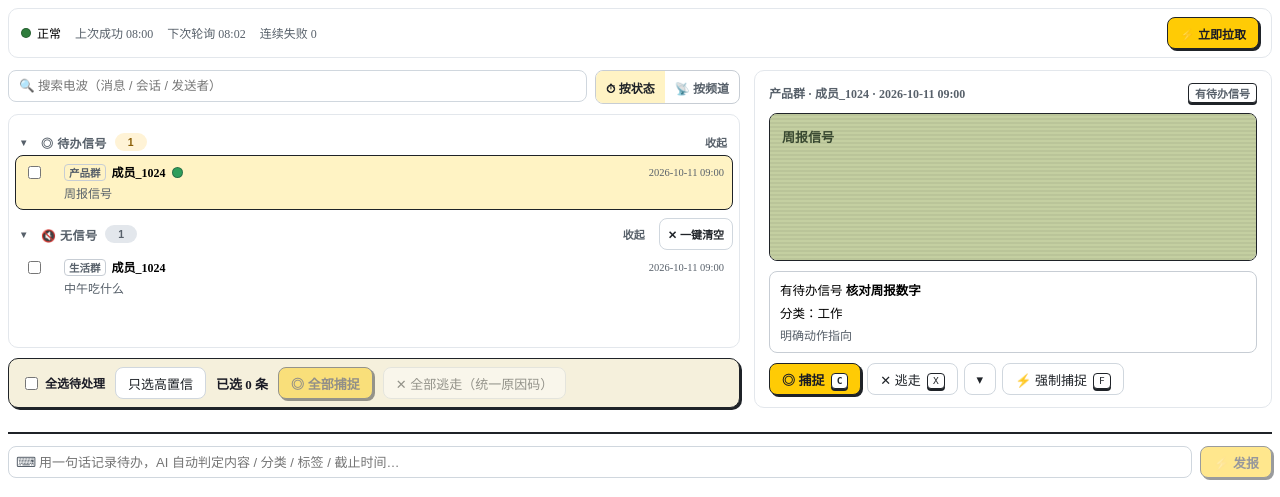
Test: 待办信号组空态（桌面 .pending-empty parity） › 搜索过滤掉全部待办信号后同样落空态（桌面搜索结果同走分组逻辑）
Type "生活群" into the field with test id "radio-search".
click(298, 86); type("生活群")  # box [8, 70, 587, 102]
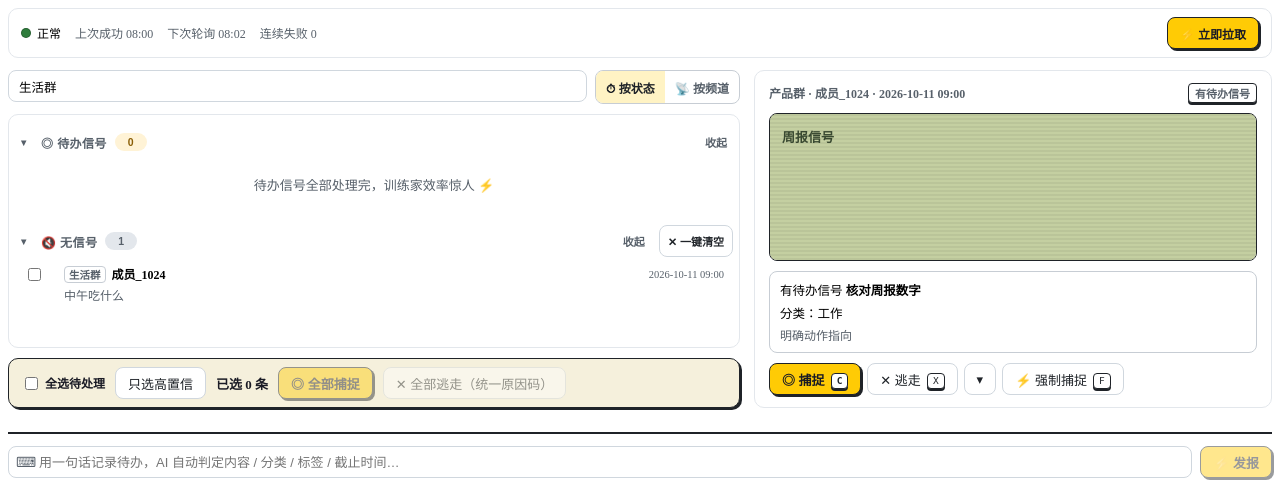
Check: the text "待办信号全部处理完，训练家效率惊人 ⚡" is shown, box [254, 178, 494, 193]
Clear the field with test id "radio-search" at (298, 86), box [8, 70, 587, 102]
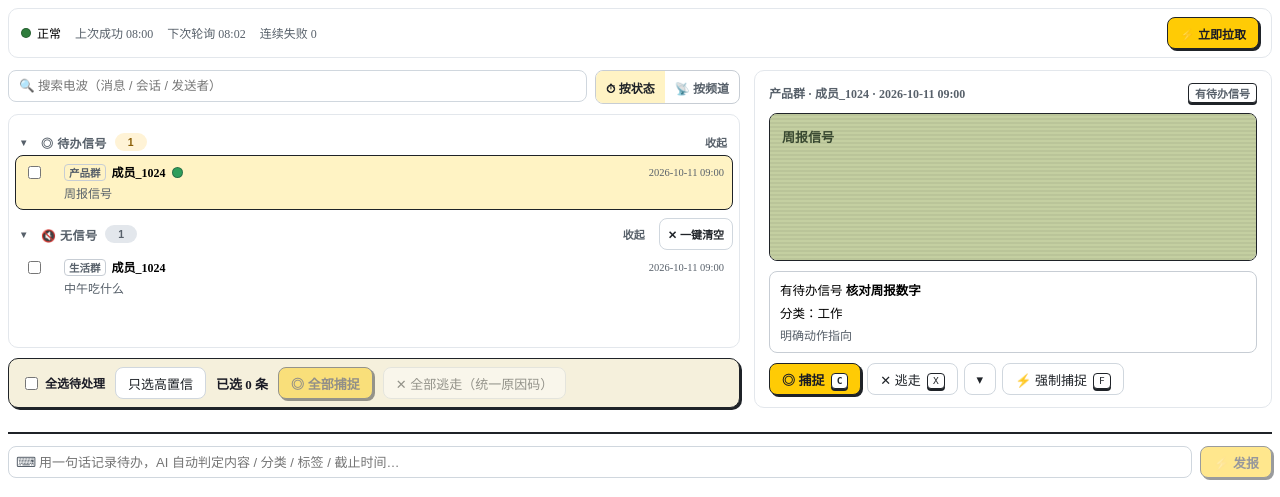
Check: the text with test id "pending-empty" is gone
